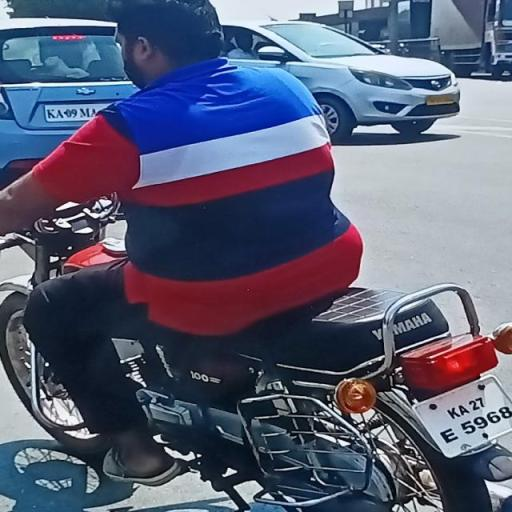bike: (5, 1, 512, 512)
withouthelmet: (120, 2, 222, 72), (413, 372, 505, 446)
